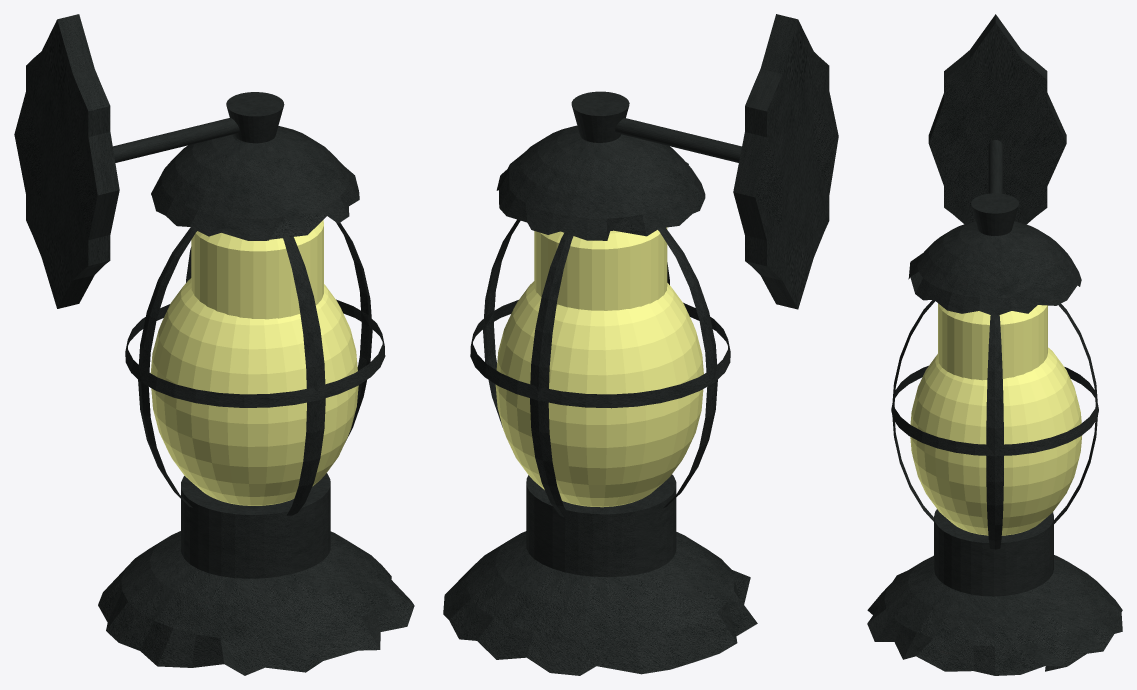
Rendered from Lampara.obj.
3 views of the same model, side by side, from view 1: azimuth 30°, elevation 25°; view 2: azimuth 150°, elevation 25°; view 3: azimuth 270°, elevation 25° (orthographic). The views are drawn at different scales.
Parts seen in each view (by area): view 1: sosten_Cubo, luz_Esfera.001; view 2: sosten_Cubo, luz_Esfera.001; view 3: sosten_Cubo, luz_Esfera.001.
Part boxes in pixels (<box>): sosten_Cubo: <box>14,14,414,675</box>; luz_Esfera.001: <box>150,220,358,505</box>; sosten_Cubo: <box>443,14,838,675</box>; luz_Esfera.001: <box>495,227,703,507</box>; sosten_Cubo: <box>867,14,1122,675</box>; luz_Esfera.001: <box>910,303,1082,535</box>.
Bounding box in the file's own units: 1.18 × 2.18 × 0.9497.
2 materials, 2 textured.
